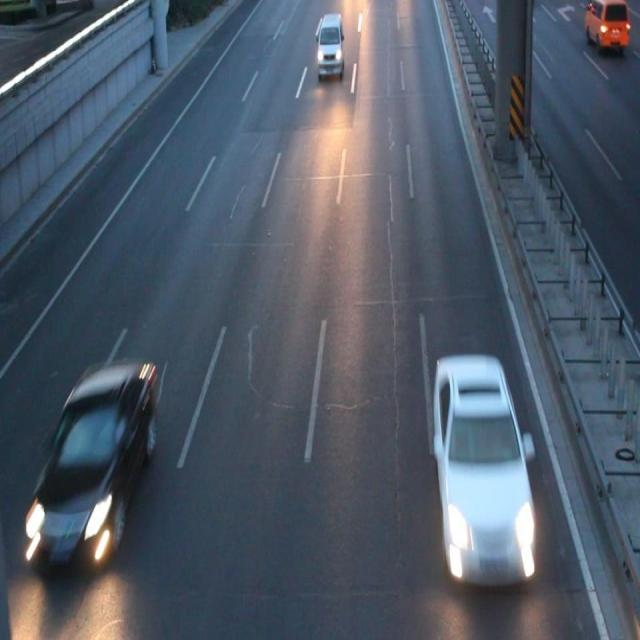car: (31, 363, 156, 546), (433, 355, 534, 560)
truck: (583, 1, 628, 49), (315, 11, 342, 76)
